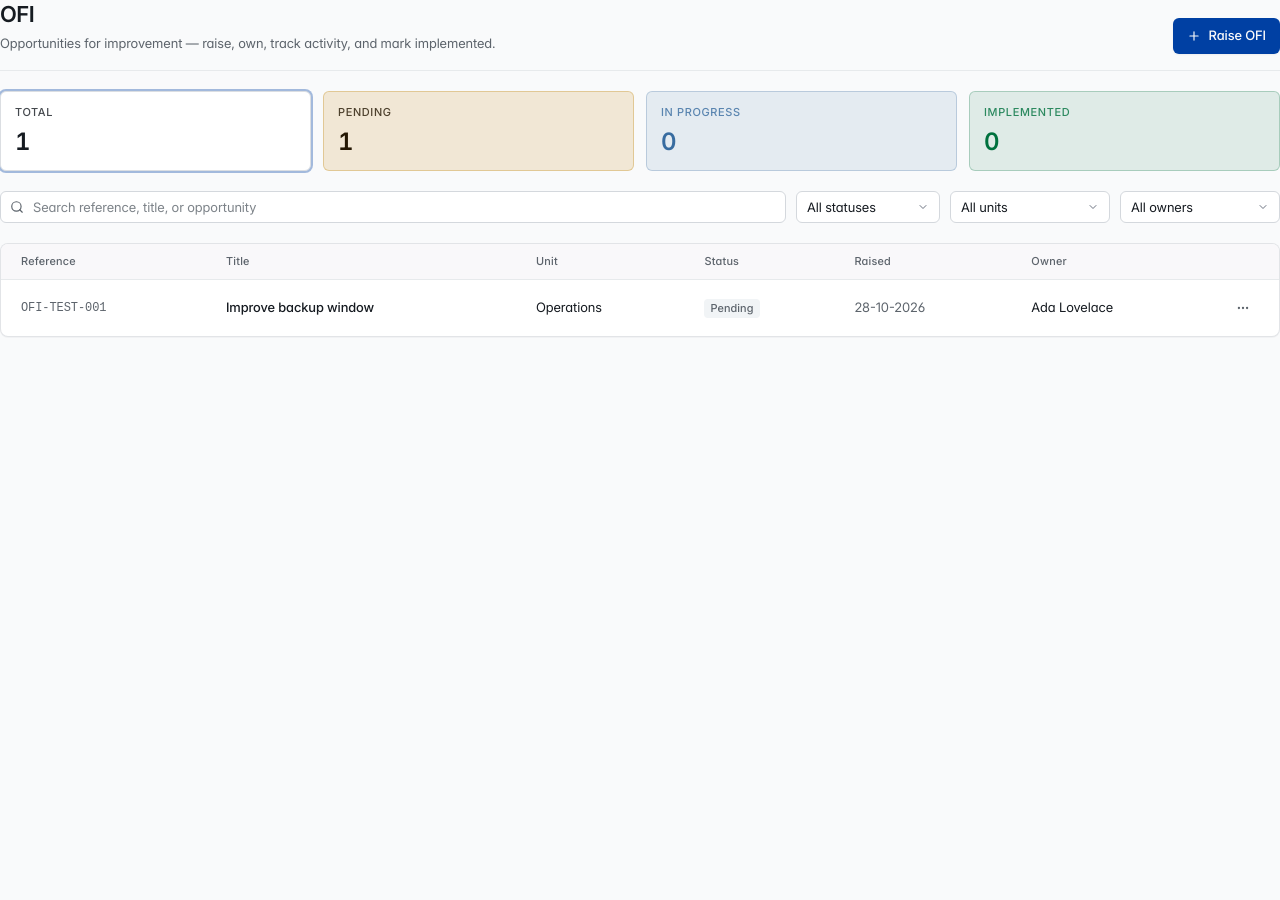
it: OfisListPage › opens details with implement and nudge actions
expect the text "Improve backup window" is shown: met, box x1=210 y1=280 x2=520 y2=336
Click the button named "actions for improve backup window".
click(1243, 308)  # box x1=1227 y1=292 x2=1259 y2=324
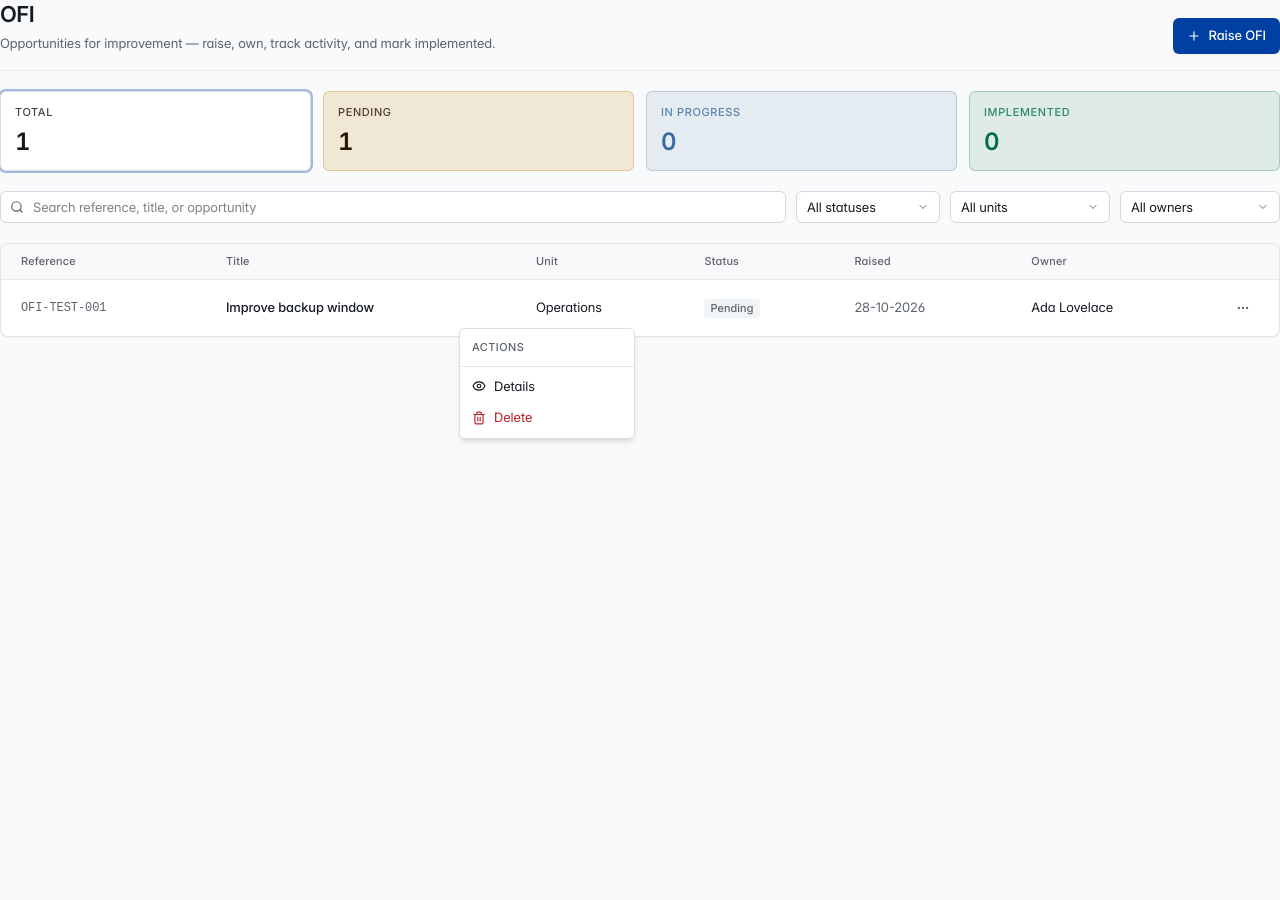
Click the menu item "Details".
click(503, 386)  # box x1=472 y1=378 x2=535 y2=394
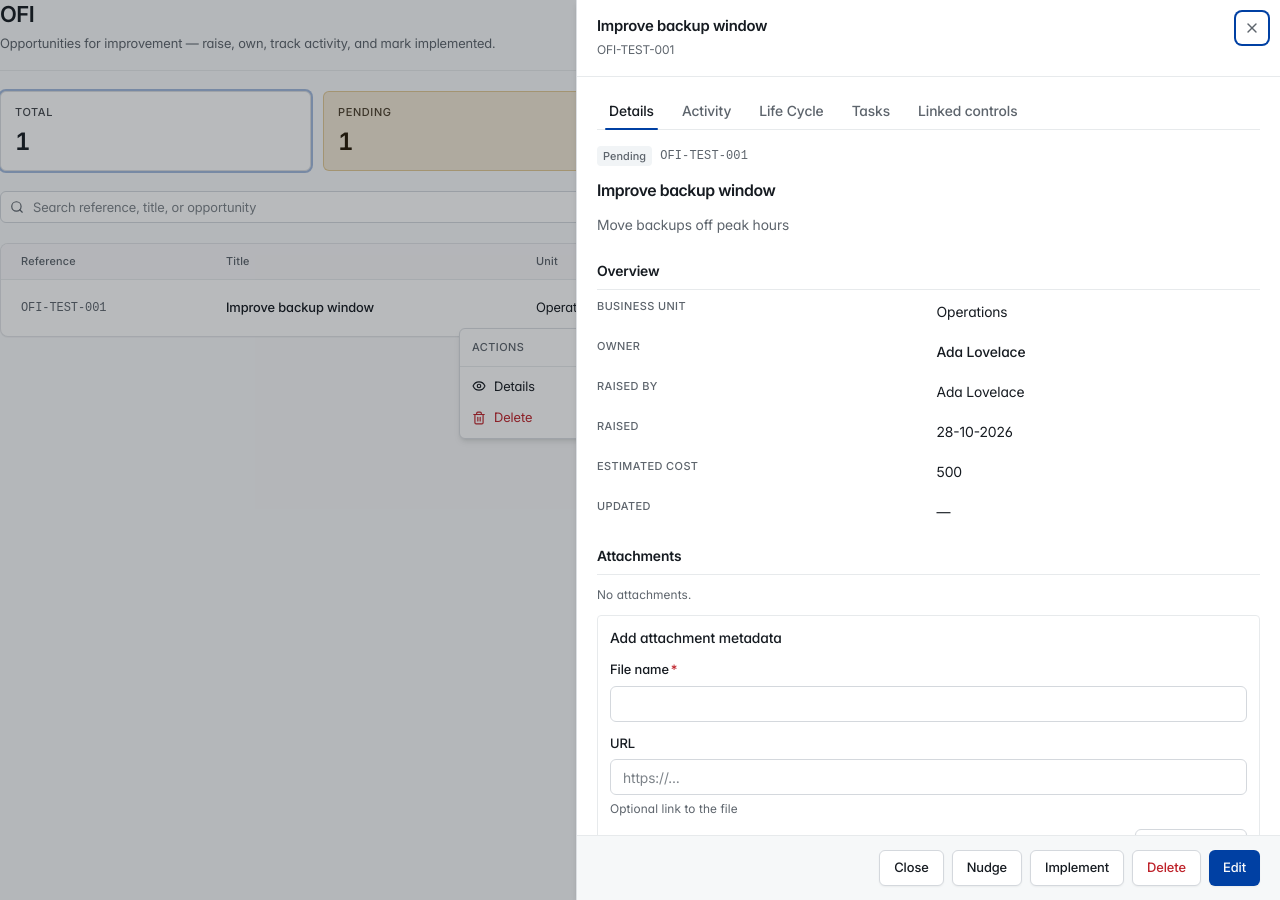
expect the button "Edit" is shown: met, box x1=1209 y1=850 x2=1260 y2=886
expect the button "Implement" is shown: met, box x1=1030 y1=850 x2=1124 y2=886
expect the button "Nudge" is shown: met, box x1=952 y1=850 x2=1022 y2=886
